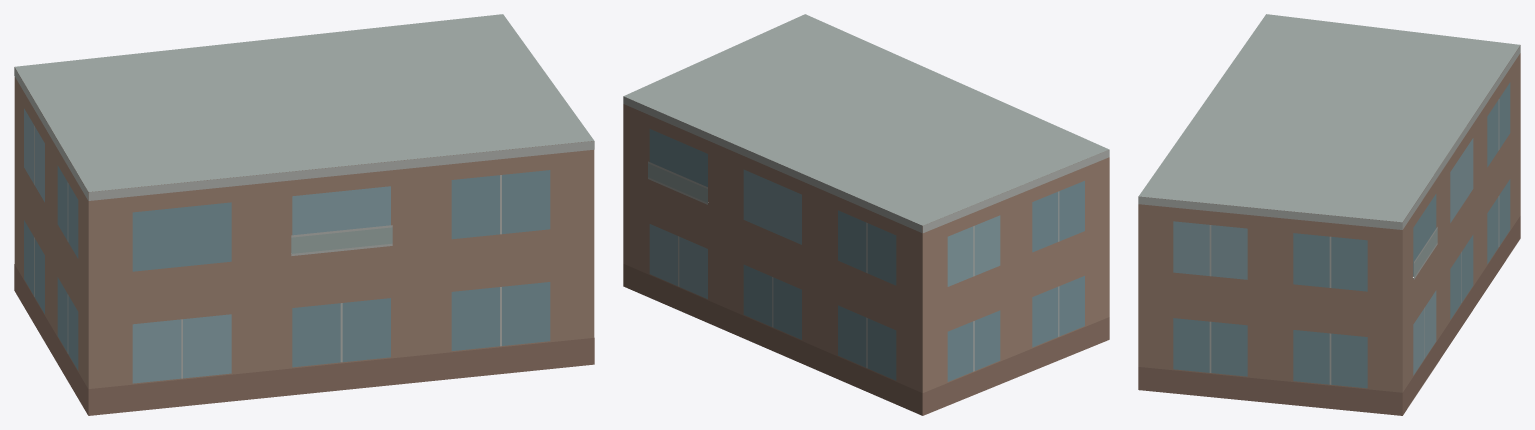
Rendered from survey-upis-32929816.glb.
The picture shows the model from 3 angles, left to right: view 1: azimuth 30°, elevation 25°; view 2: azimuth 150°, elevation 25°; view 3: azimuth 270°, elevation 25°; orthographic projection. The views are drawn at different scales.
Visible parts, largest first — view 1: survey-upis-32929816.tmp; view 2: survey-upis-32929816.tmp; view 3: survey-upis-32929816.tmp.
Boxes of the visible parts, x1,y1,x2,y2 form: survey-upis-32929816.tmp: [14, 14, 594, 415]; survey-upis-32929816.tmp: [623, 14, 1109, 415]; survey-upis-32929816.tmp: [1138, 14, 1520, 415].
Bounding box in the file's own units: 14.09 × 6.1 × 10.92.
